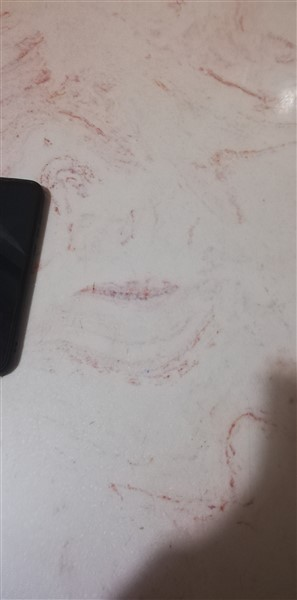telefon: (1, 170, 52, 382)
